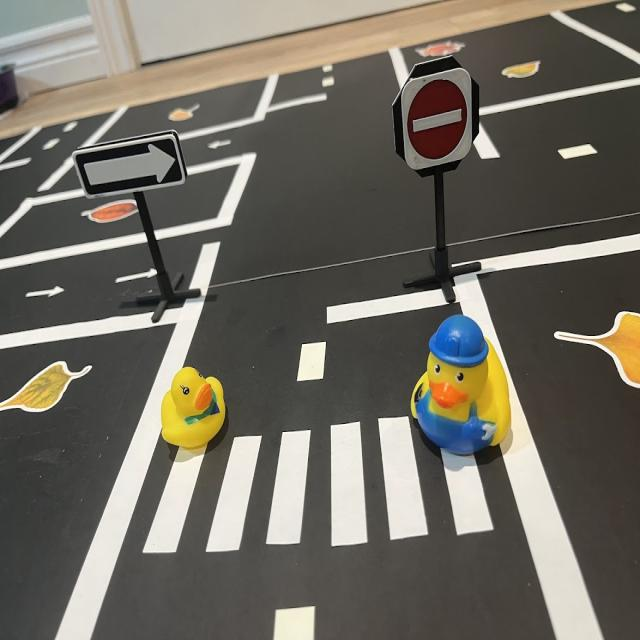duck_regular: (159, 363, 229, 451)
duck_specialty: (407, 312, 517, 462)
road_crosswalk: (135, 401, 502, 558)
road_oneway: (24, 284, 70, 305), (116, 267, 163, 287), (205, 138, 237, 153)
sign_noentry: (402, 66, 477, 170)
sign_oneway_right: (75, 128, 187, 201)
